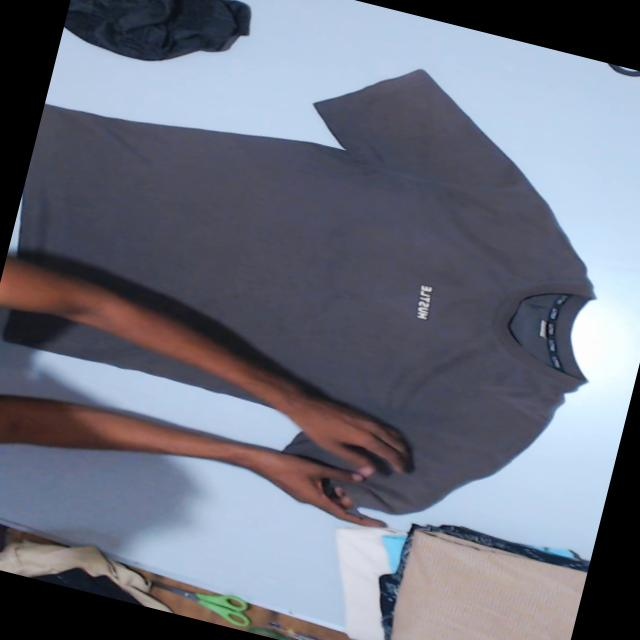new-garment: (18, 69, 594, 513), (3, 310, 267, 404)
